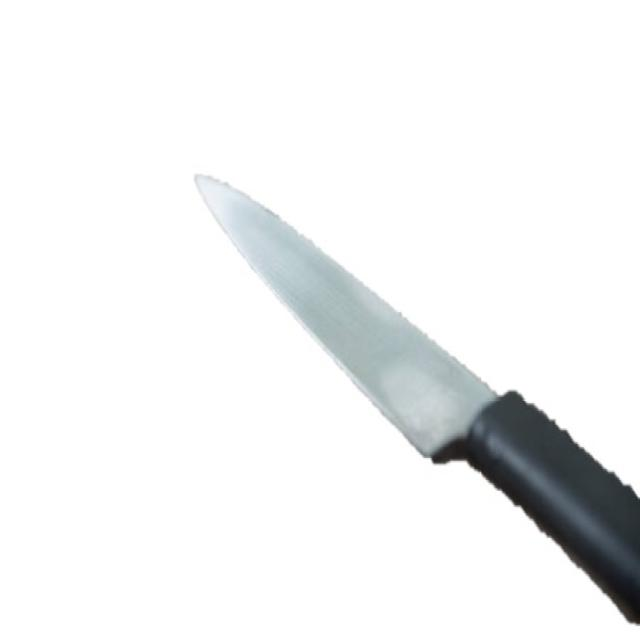knife: (192, 167, 640, 632)
